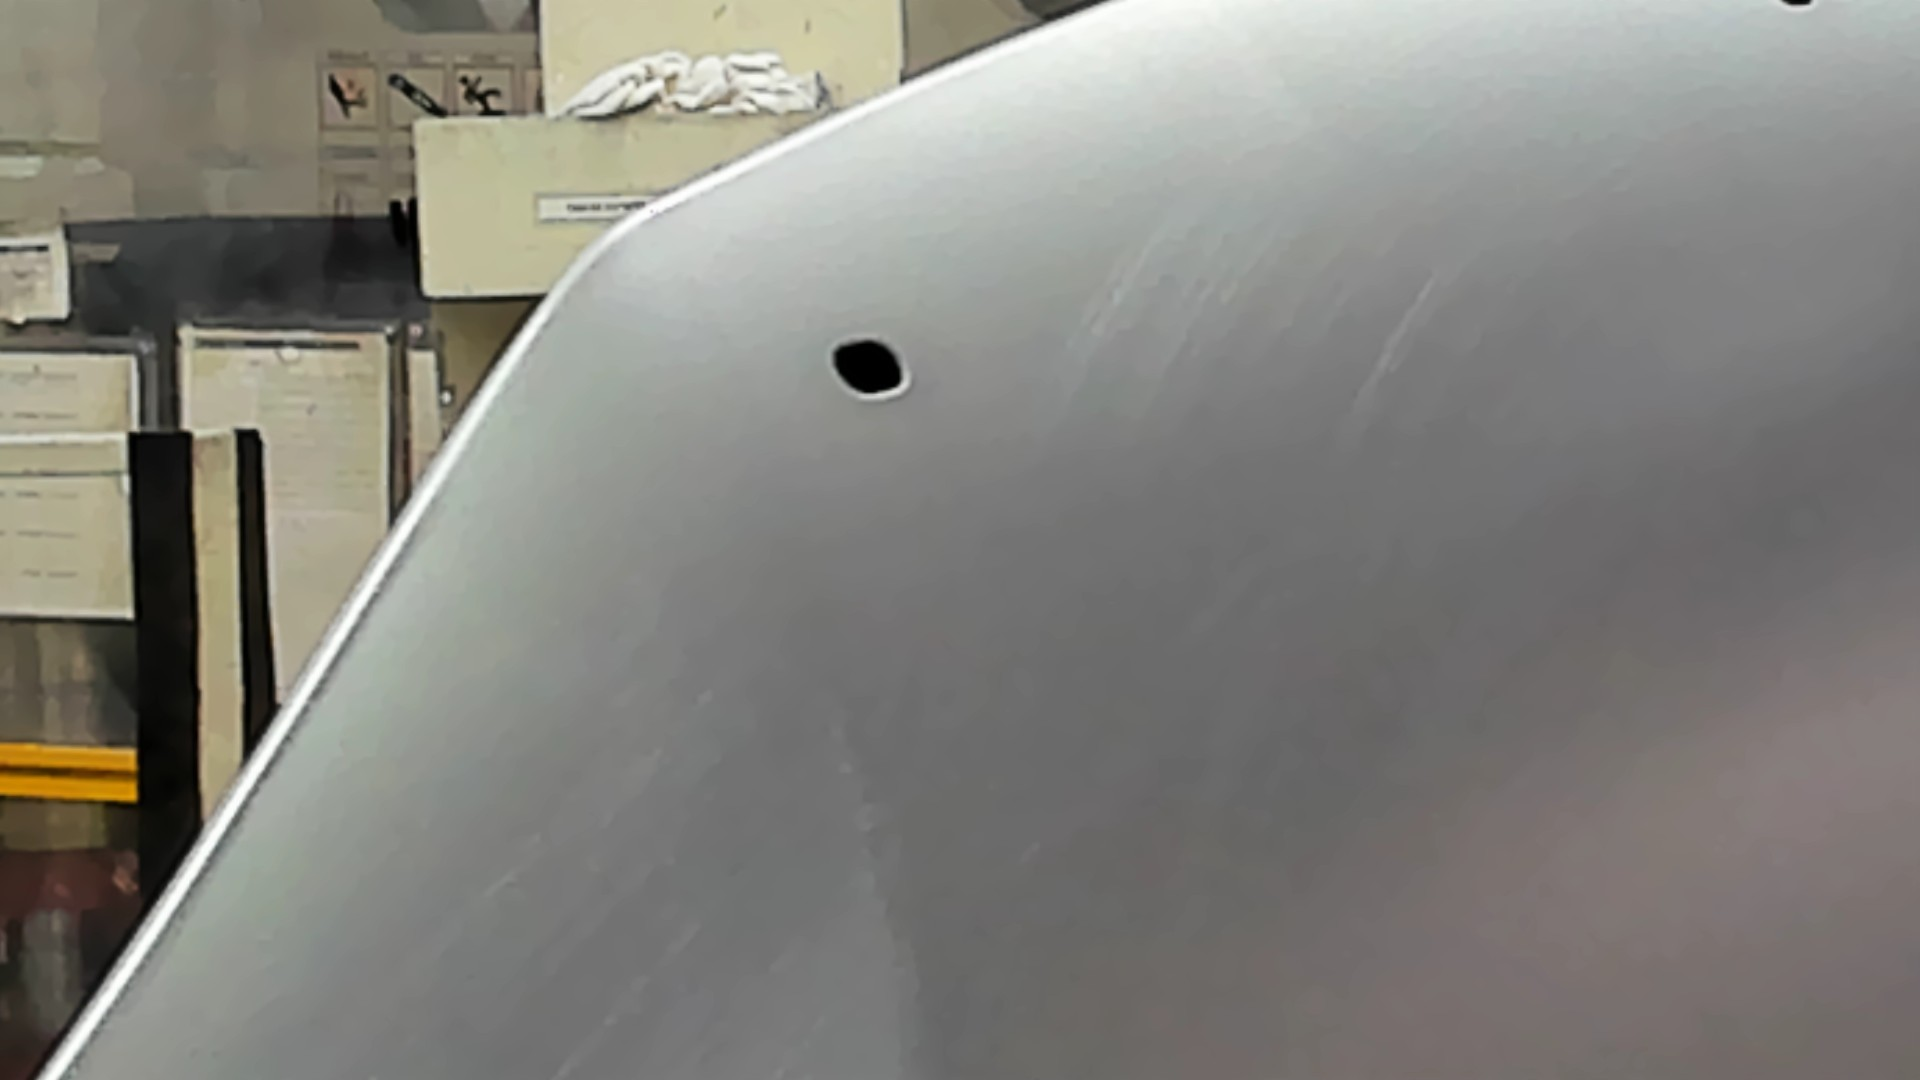amorfo: (828, 331, 914, 404)
capo: (975, 82, 1920, 1080)
